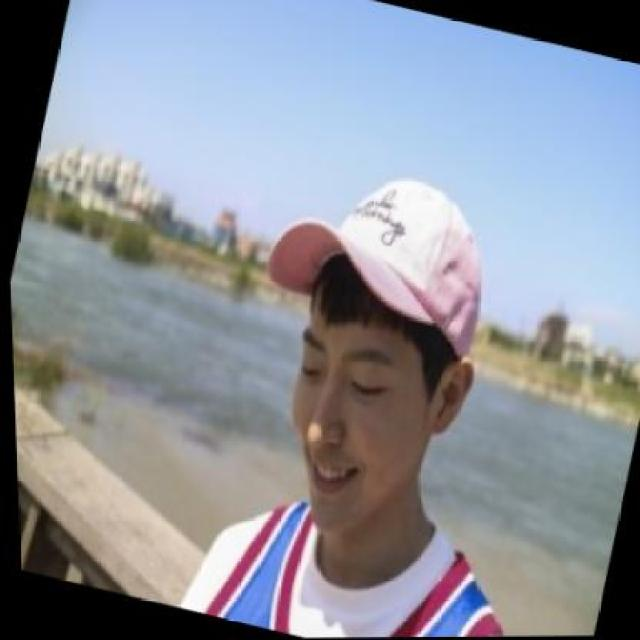hat: (241, 145, 505, 361)
